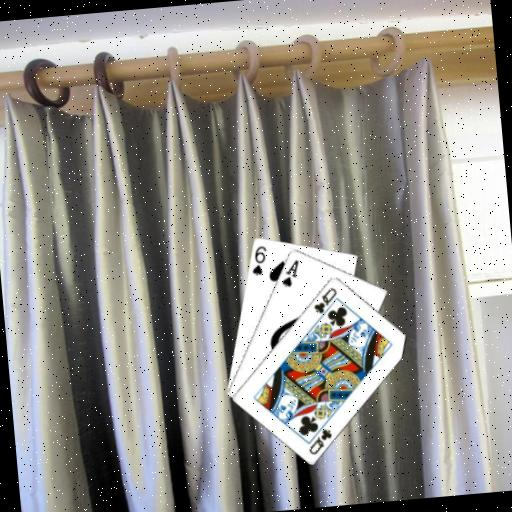6S: (247, 243, 270, 278)
AS: (277, 256, 303, 289)
QC: (309, 284, 340, 315), (305, 425, 336, 456)
